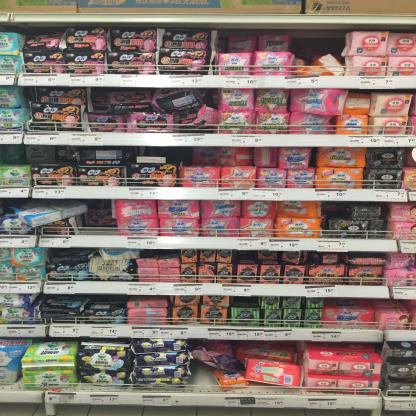Void: (296, 34, 337, 52), (84, 215, 116, 232), (170, 146, 191, 166), (195, 368, 214, 388), (328, 203, 349, 217), (141, 252, 178, 258), (233, 297, 256, 306), (237, 251, 252, 264)
